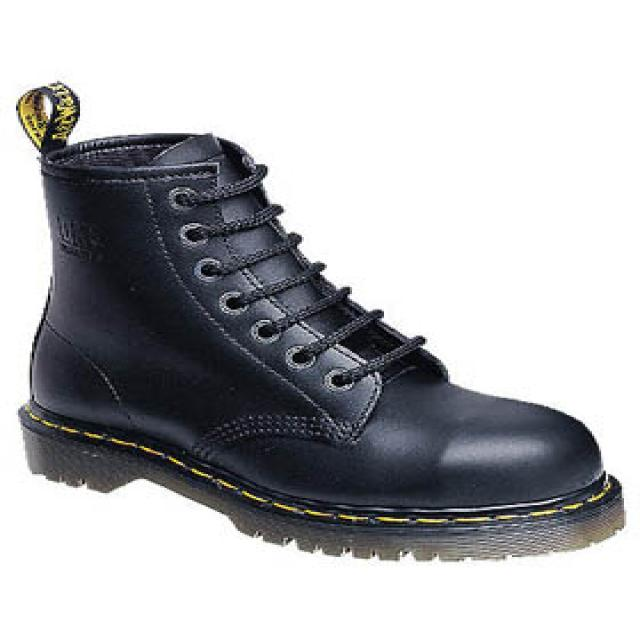boot: (13, 73, 640, 568)
